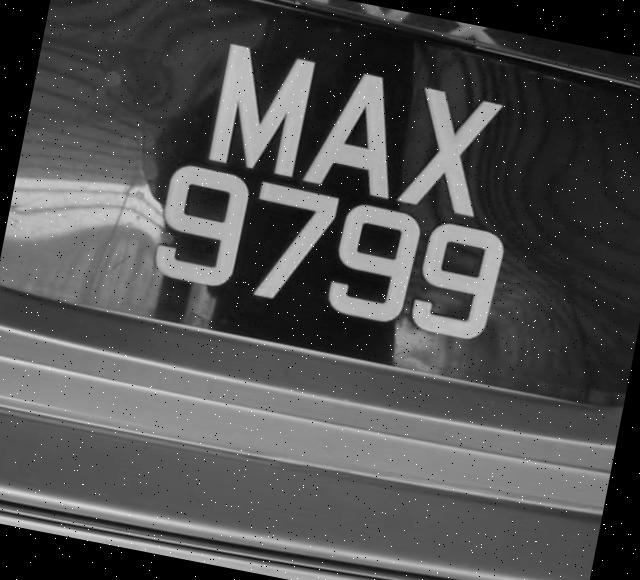License_Plate: (2, 1, 640, 407)
